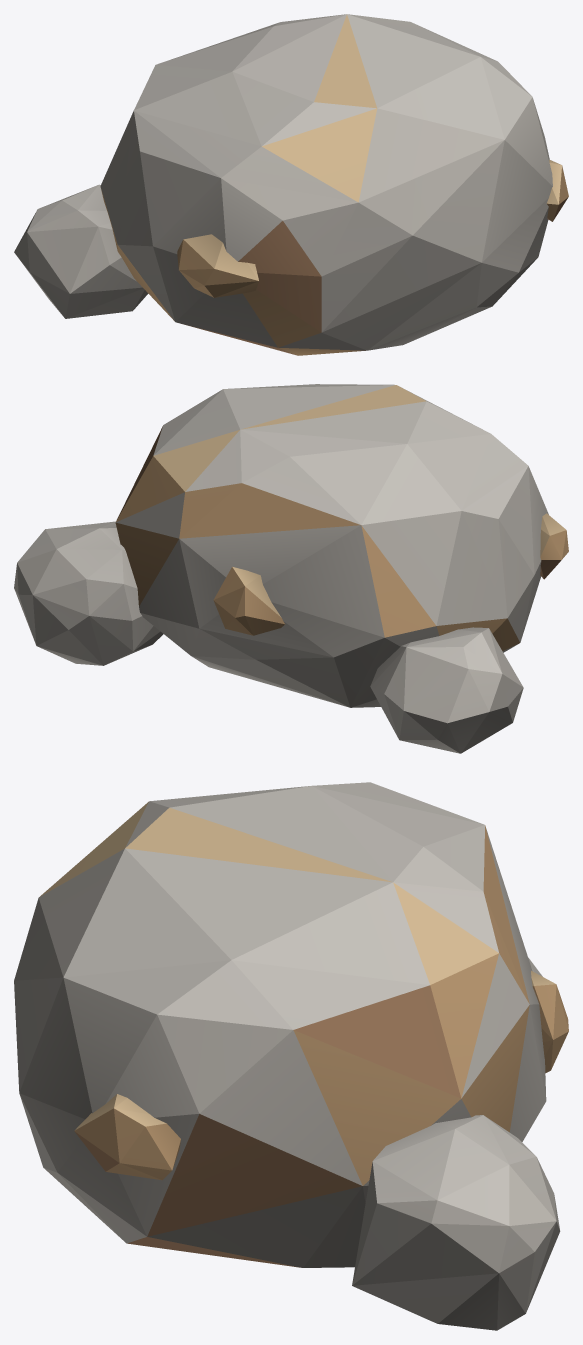
Rendered from quarry_rock_c_low.glb.
The picture shows the model from 3 angles, top to bottom: view 1: azimuth 30°, elevation 25°; view 2: azimuth 150°, elevation 25°; view 3: azimuth 270°, elevation 25°; orthographic projection. The views are drawn at different scales.
Bounding box in the file's own units: 2.01 × 0.9835 × 1.4.
